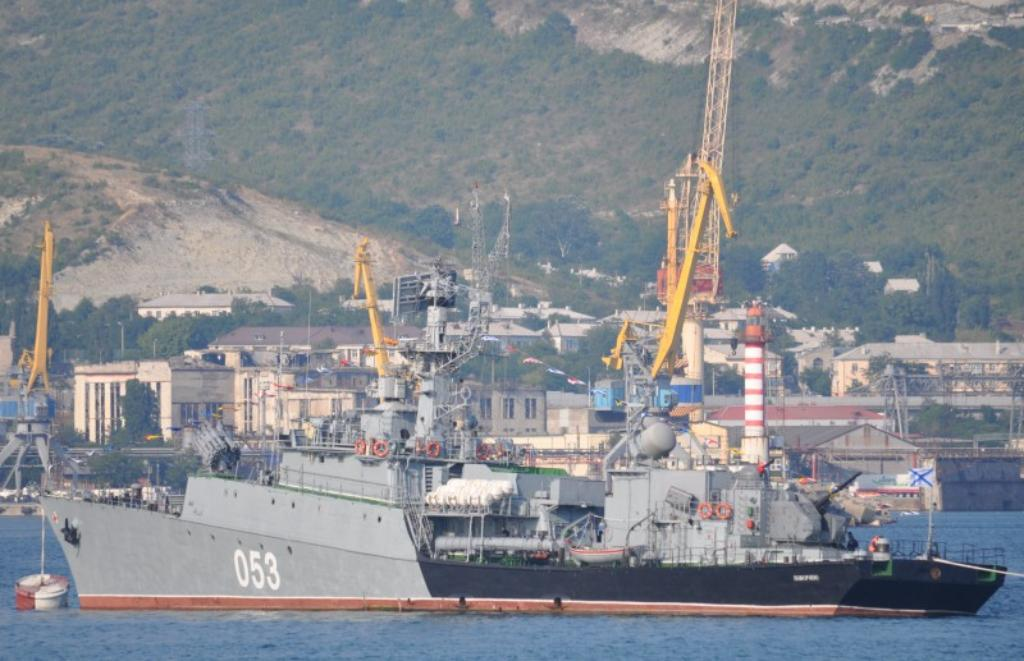Warship: (28, 270, 1008, 618)
